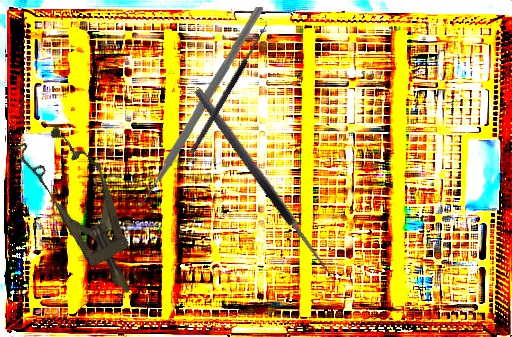Chopper: (119, 7, 267, 206)
Hook Surgical: (192, 80, 346, 280), (182, 16, 272, 156)
Speculum: (11, 115, 159, 309)
